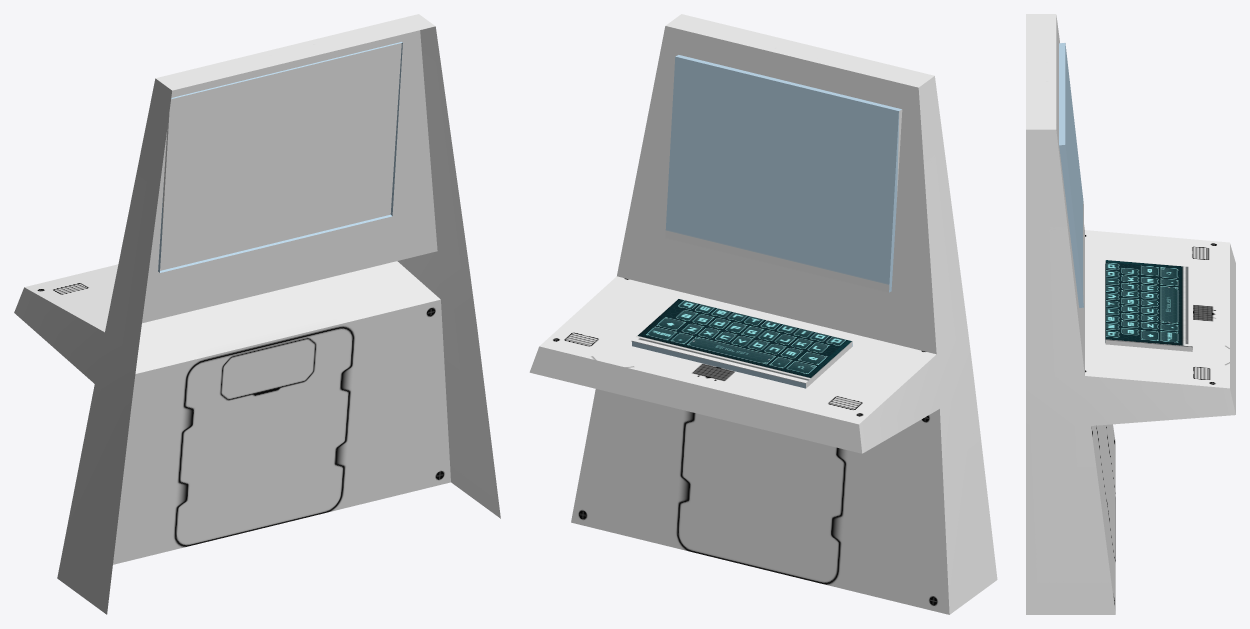
Rendered from computer.fbx.
The picture shows the model from 3 angles, left to right: view 1: azimuth 30°, elevation 25°; view 2: azimuth 150°, elevation 25°; view 3: azimuth 270°, elevation 25°; orthographic projection. The views are drawn at different scales.
Visible parts, largest first — view 1: polySurface714; view 2: polySurface714; view 3: polySurface714.
Boxes of the visible parts, bbox=[...] form: polySurface714: bbox=[14, 14, 500, 614]; polySurface714: bbox=[529, 14, 997, 614]; polySurface714: bbox=[1026, 14, 1235, 614].
Bounding box in the file's own units: 173 × 213 × 88.65.
Materials: 1 (1 with a texture image).
